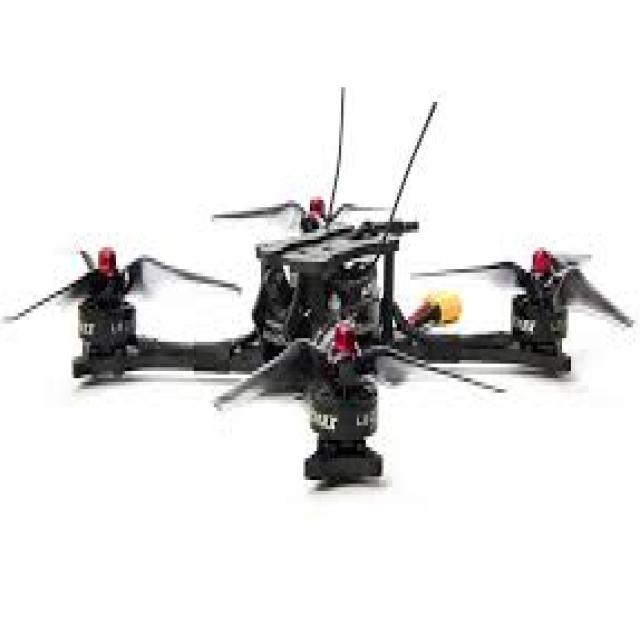drone: (2, 115, 640, 523)
